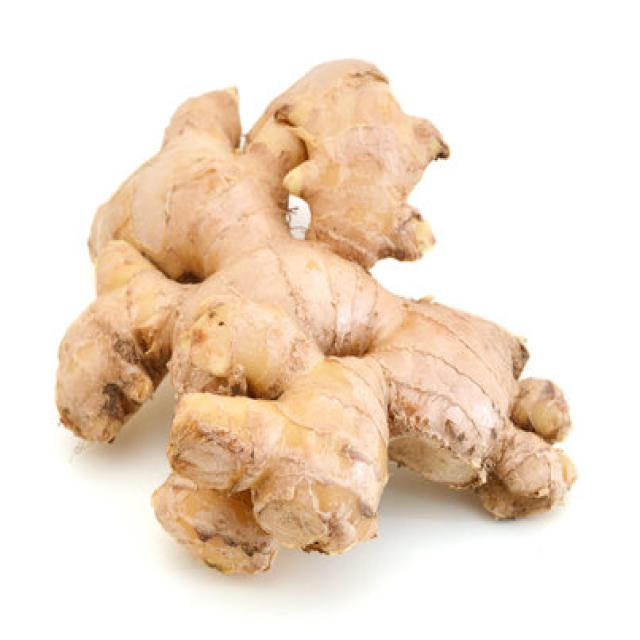Ginger: (52, 55, 576, 576)
